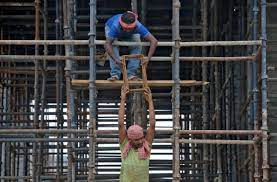arm: (136, 18, 160, 66), (102, 17, 123, 64), (143, 90, 160, 146), (116, 90, 127, 143)
face: (123, 17, 138, 29)
human: (101, 8, 159, 78)
leg: (124, 52, 141, 78)
noglove: (138, 52, 151, 65)
nogoggle: (133, 137, 145, 142)
nohelmet: (121, 8, 138, 26), (126, 125, 147, 138)
novest: (118, 147, 152, 181), (108, 18, 144, 50)
